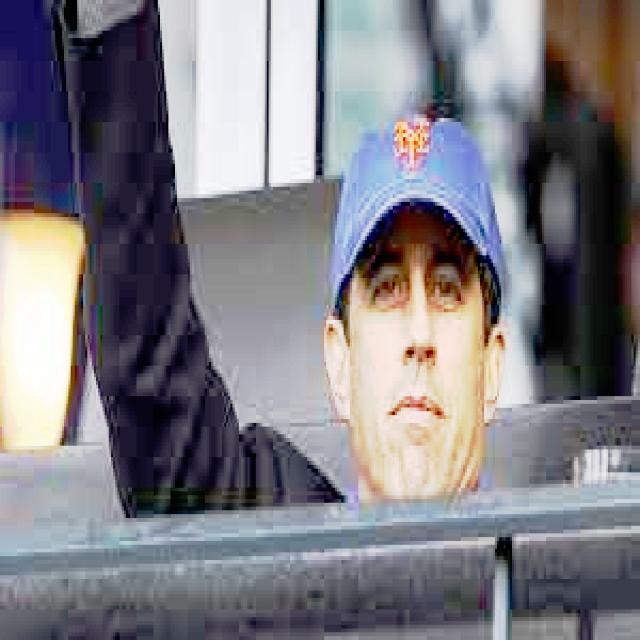TOPI: (324, 106, 506, 332)
